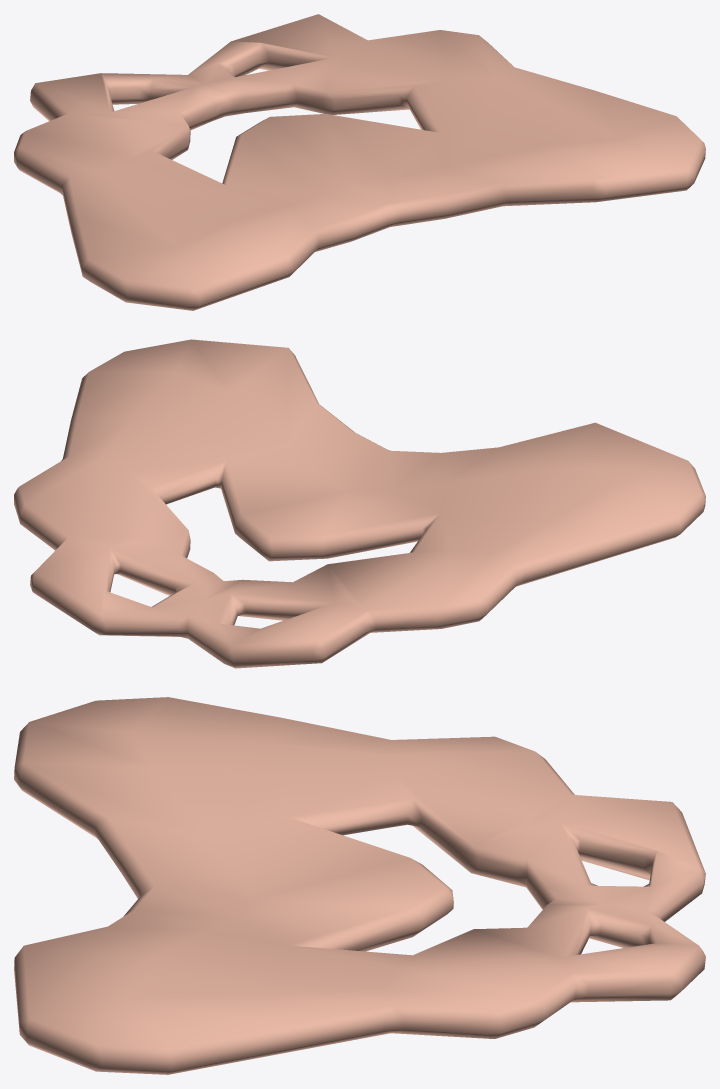
File: bone_chairSeat.glb
3 renders of one model, top to bottom at view 1: azimuth 30°, elevation 25°; view 2: azimuth 150°, elevation 25°; view 3: azimuth 270°, elevation 25°, orthographic. The views are drawn at different scales.
Parts seen in each view (by area): view 1: Plane; view 2: Plane; view 3: Plane.
Boxes of the visible parts, x1=… form: Plane: x1=14, y1=14, x2=705, y2=310; Plane: x1=14, y1=339, x2=705, y2=668; Plane: x1=14, y1=697, x2=705, y2=1074.
Size of the model in its own units: 0.5478 by 0.0589 by 0.448.
